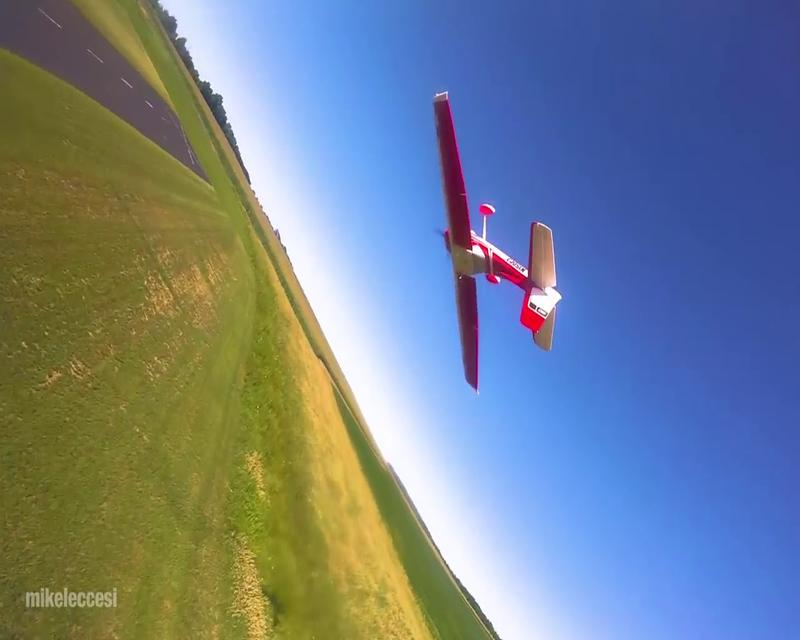UAV: (434, 91, 563, 393)
